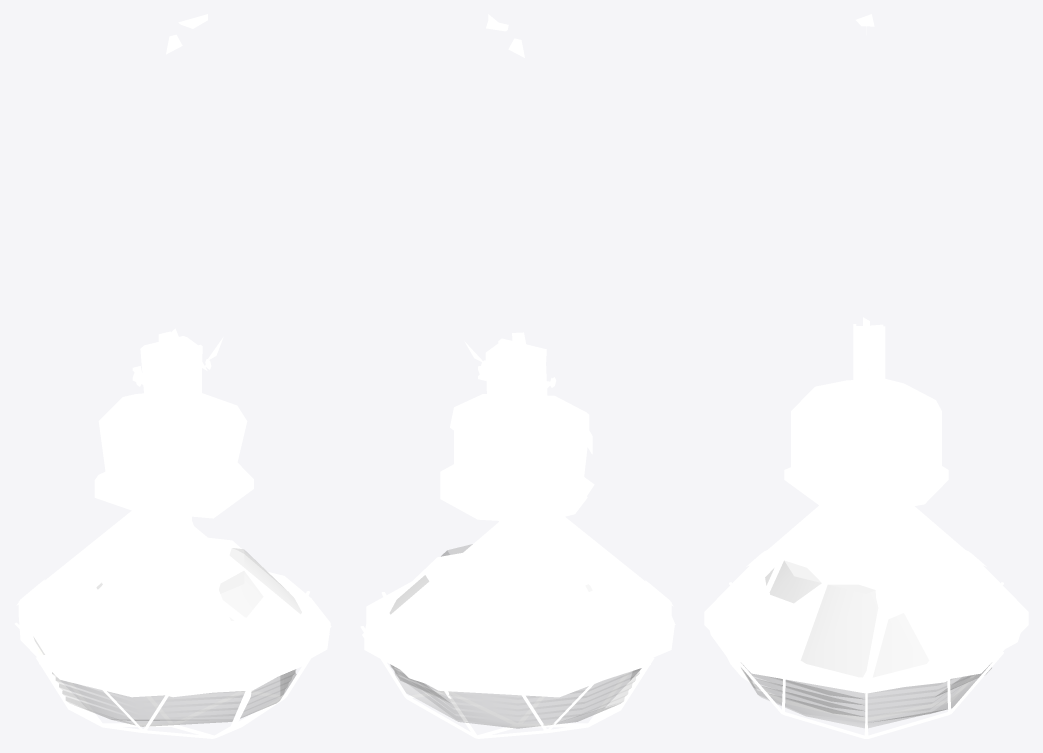
Rendered from hanging_industrial_lamp.glb.
3 views of the same model, side by side, from view 1: azimuth 30°, elevation 25°; view 2: azimuth 150°, elevation 25°; view 3: azimuth 270°, elevation 25° (orthographic). The views are drawn at different scales.
Visible parts, largest first — view 1: hanging_industrial_lamp; view 2: hanging_industrial_lamp; view 3: hanging_industrial_lamp.
Part boxes in pixels (x1=…): hanging_industrial_lamp: x1=14, y1=14, x2=331, y2=738; hanging_industrial_lamp: x1=360, y1=14, x2=675, y2=738; hanging_industrial_lamp: x1=704, y1=14, x2=1028, y2=738.
Size of the model in its own units: 0.5462 by 1.34 by 0.5496.
Materials: 2 (1 with a texture image).
